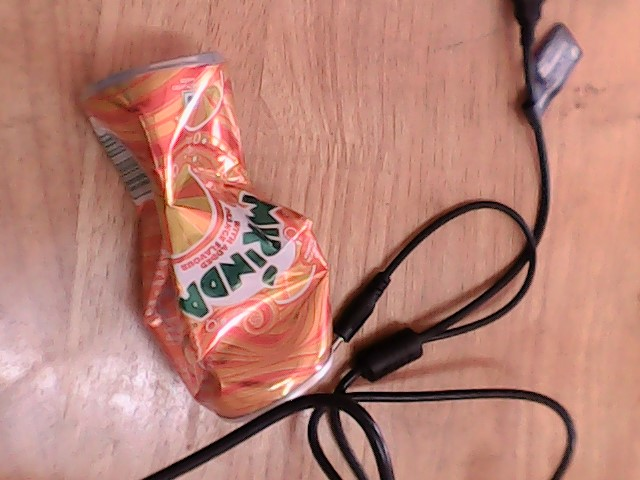Metal: (80, 90, 316, 480)
